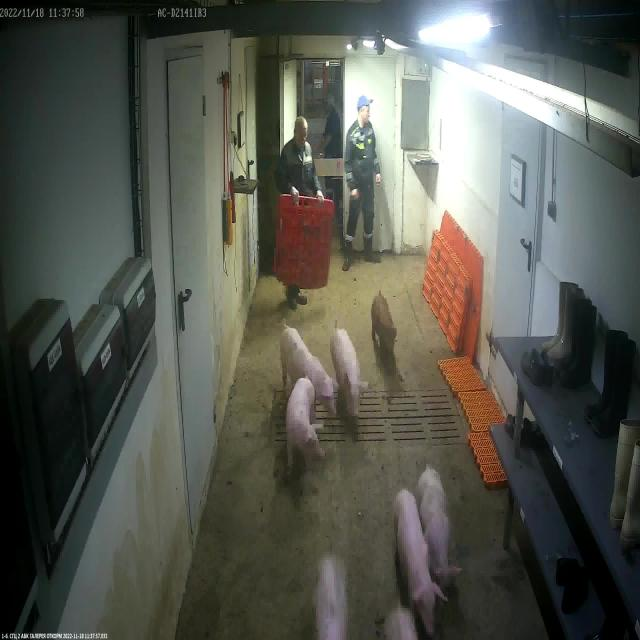pig: (395, 490, 448, 635), (418, 469, 462, 597), (280, 327, 338, 415), (332, 330, 370, 416), (288, 378, 326, 463), (313, 555, 350, 640), (370, 294, 398, 360), (385, 608, 418, 640)
